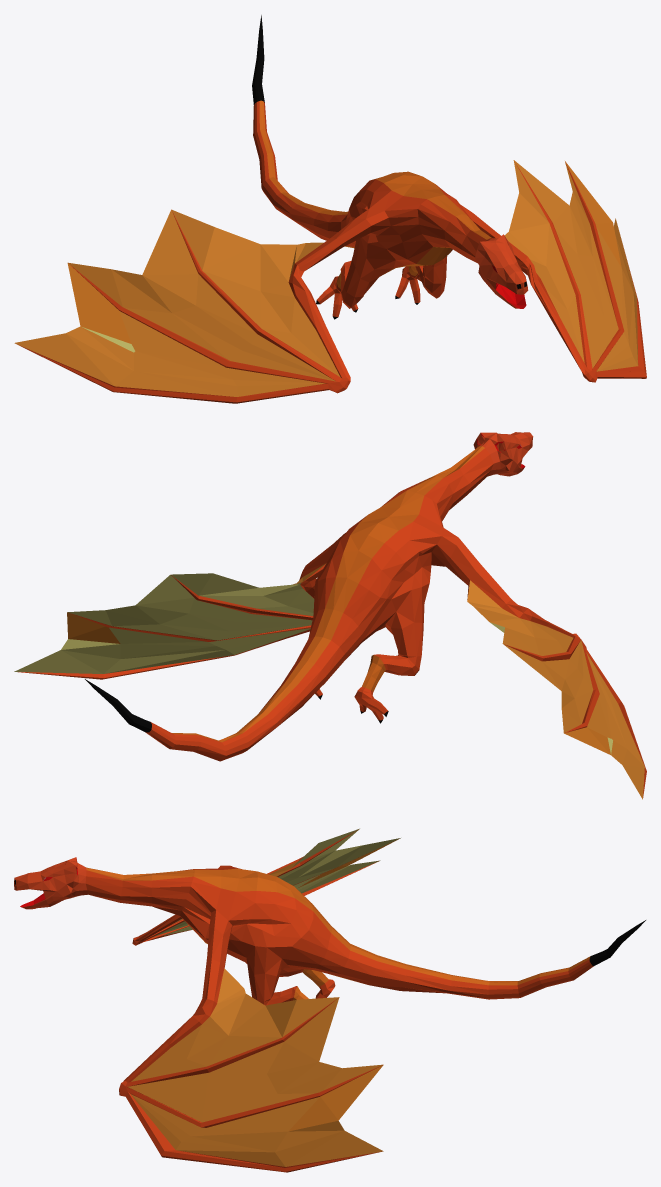
File: flyingdragon.obj
The picture shows the model from 3 angles, top to bottom: view 1: azimuth 30°, elevation 25°; view 2: azimuth 150°, elevation 25°; view 3: azimuth 270°, elevation 25°; orthographic projection. The views are drawn at different scales.
Visible parts, largest first — view 1: Cylinder; view 2: Cylinder; view 3: Cylinder.
Boxes of the visible parts, x1,y1,x2,y2 form: Cylinder: (14, 15, 646, 403); Cylinder: (14, 432, 646, 799); Cylinder: (14, 828, 645, 1172).
Size of the model in its own units: 31.26 by 11.18 by 30.98.
